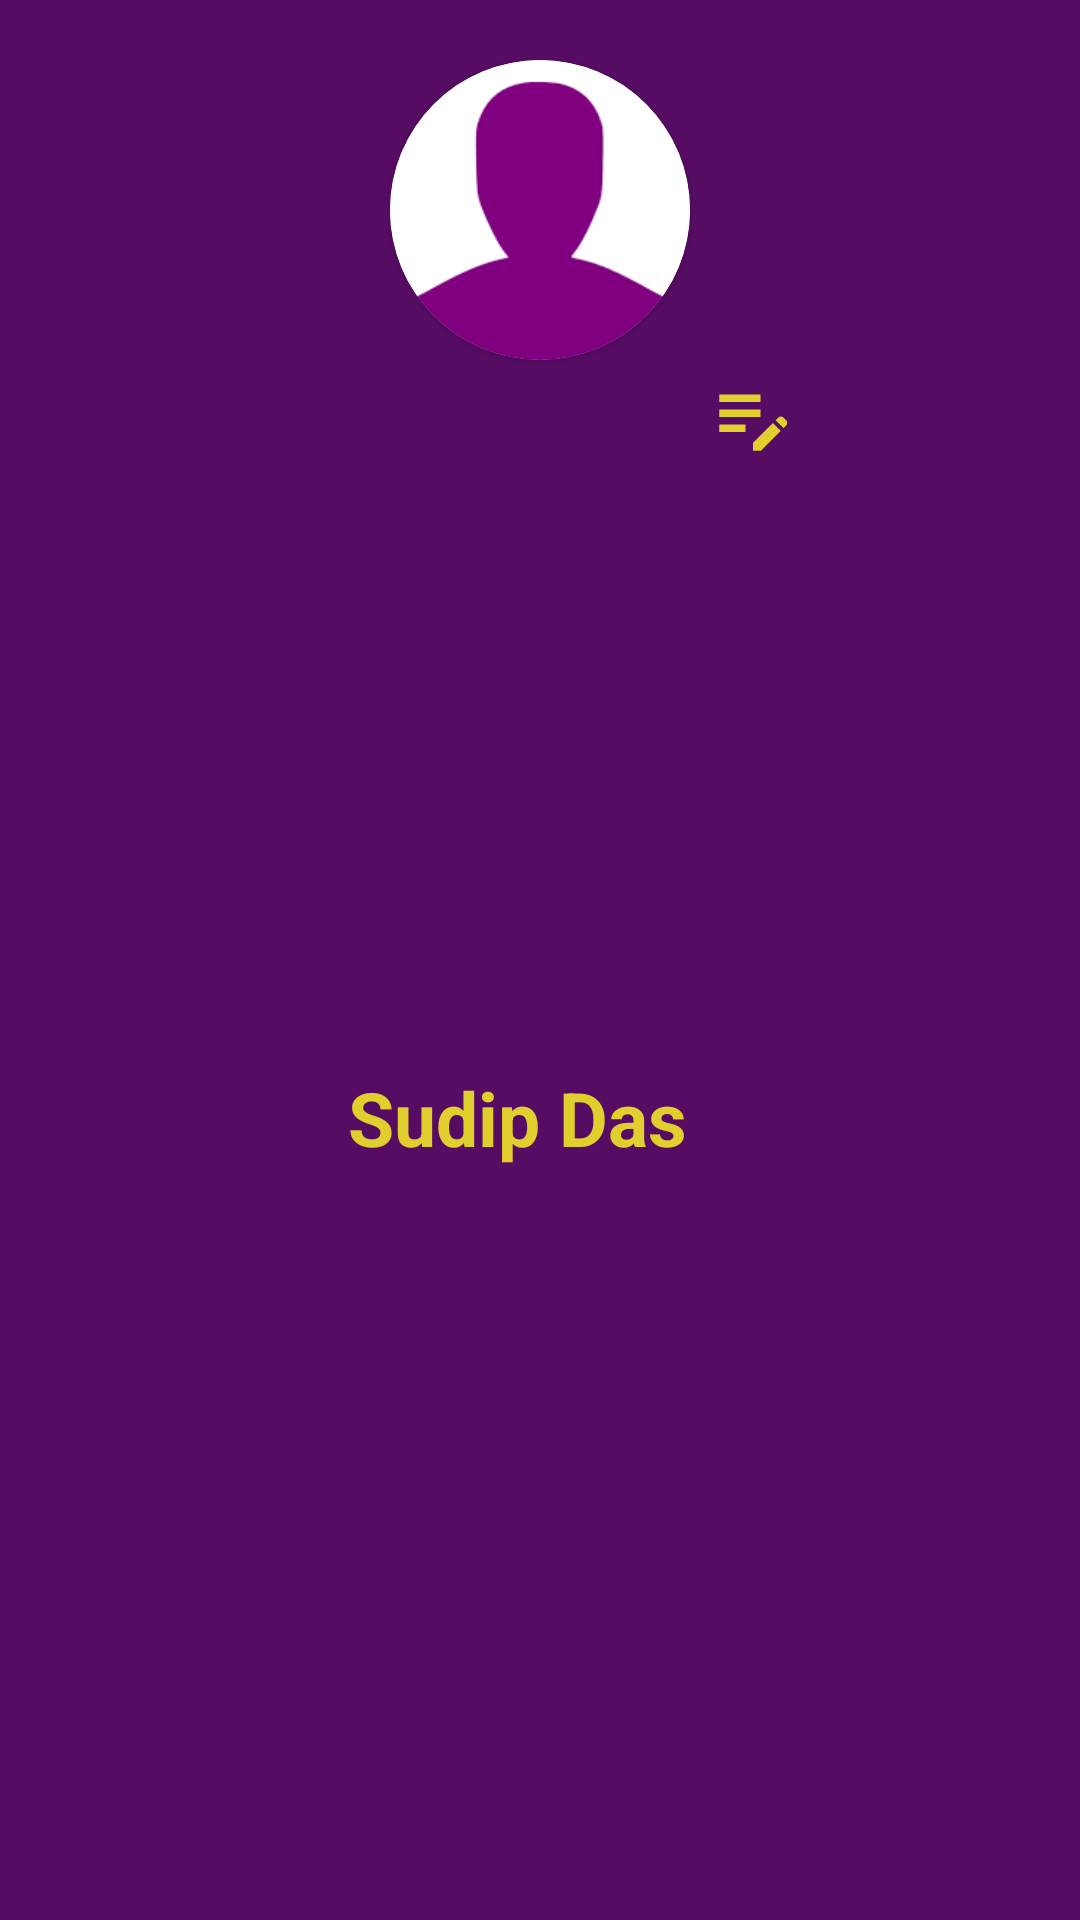

Screen size 1080×1920. Icon name, then its box in pixels as [x1=x1, y1=y1, x2=x2, y2=y2]:
edit: [x1=719, y1=394, x2=788, y2=451]
profile: [x1=390, y1=60, x2=690, y2=360]
